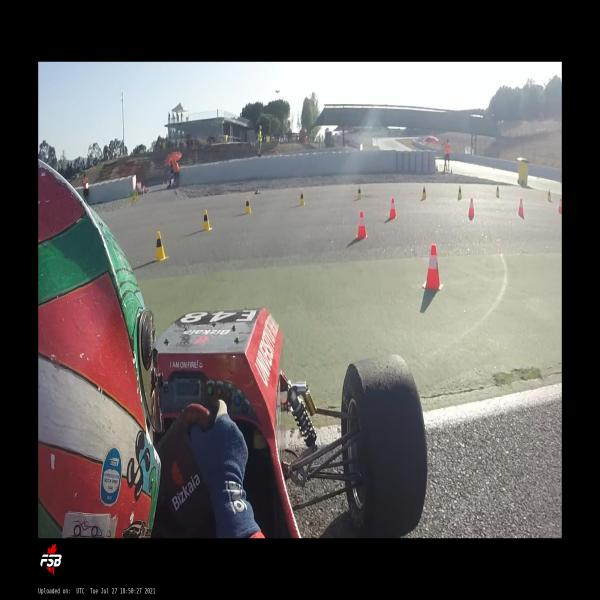orange_cone: (422, 243, 443, 290), (356, 211, 368, 238), (387, 197, 397, 220), (467, 197, 475, 217), (517, 198, 524, 216), (557, 198, 561, 214)
yellow_cone: (154, 231, 169, 261), (202, 209, 212, 230), (244, 196, 252, 214), (299, 190, 306, 206), (456, 186, 463, 200), (421, 185, 427, 200), (356, 186, 362, 200), (495, 184, 500, 199), (547, 189, 552, 202)
